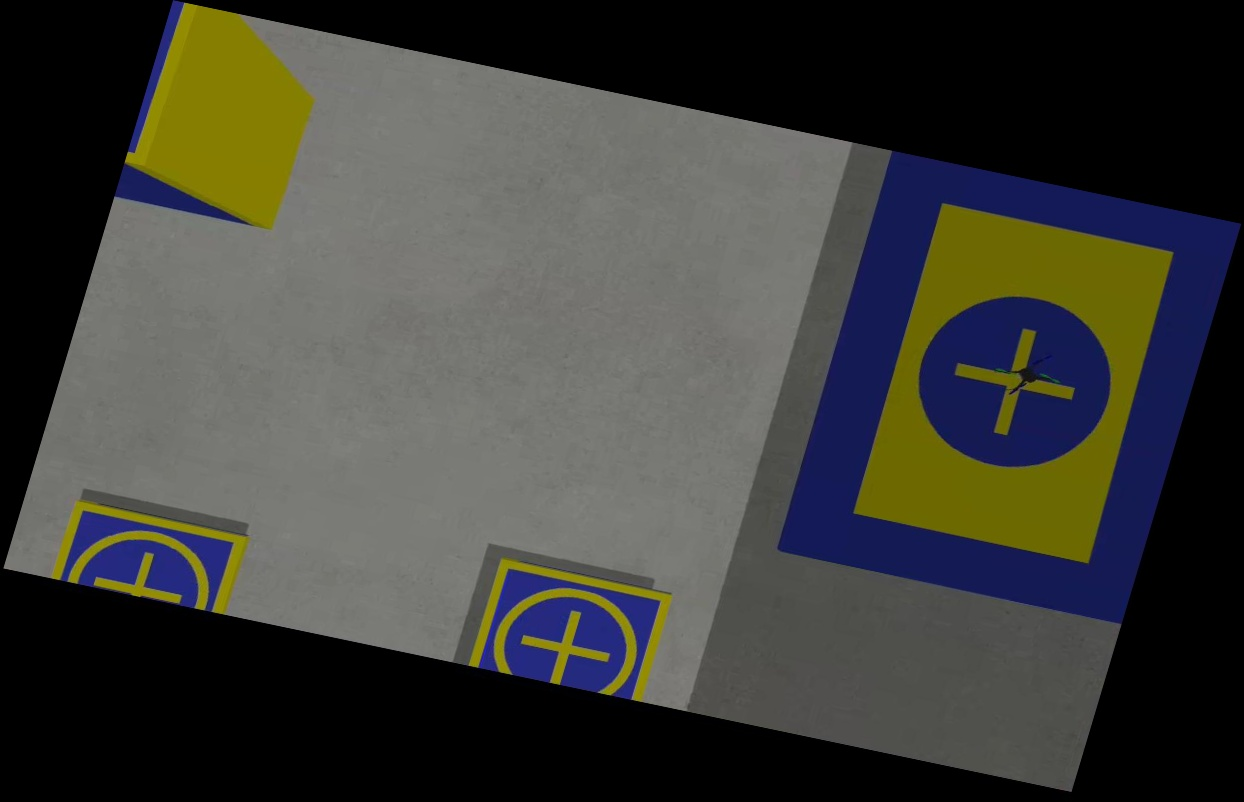large_base: (775, 151, 1243, 619)
small_base: (466, 556, 672, 703), (58, 501, 250, 616)
